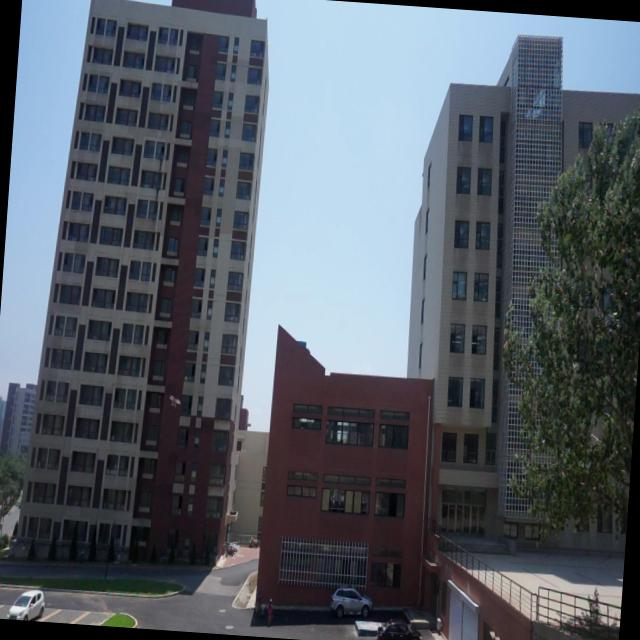drone: (168, 388, 184, 414)
